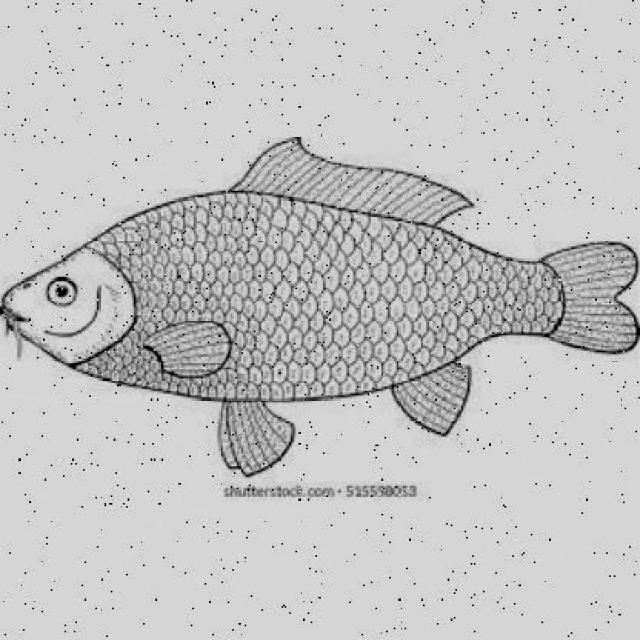ikan-mas: (0, 158, 637, 457)
